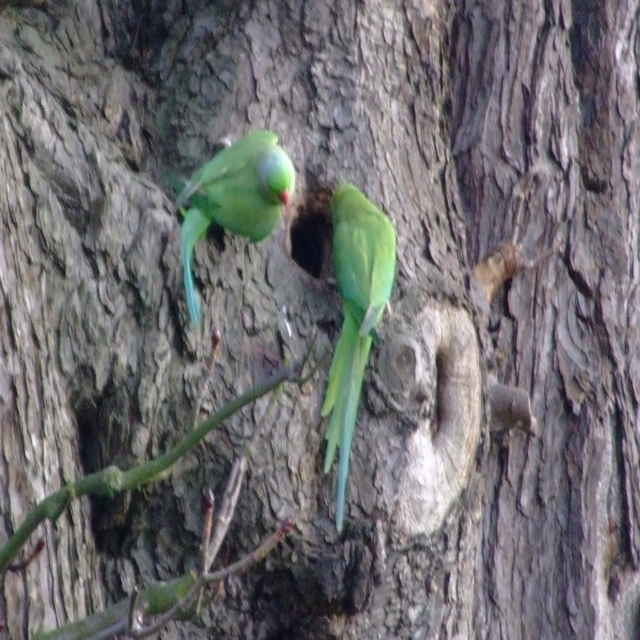Parrot: (320, 184, 396, 537), (170, 127, 295, 322)
